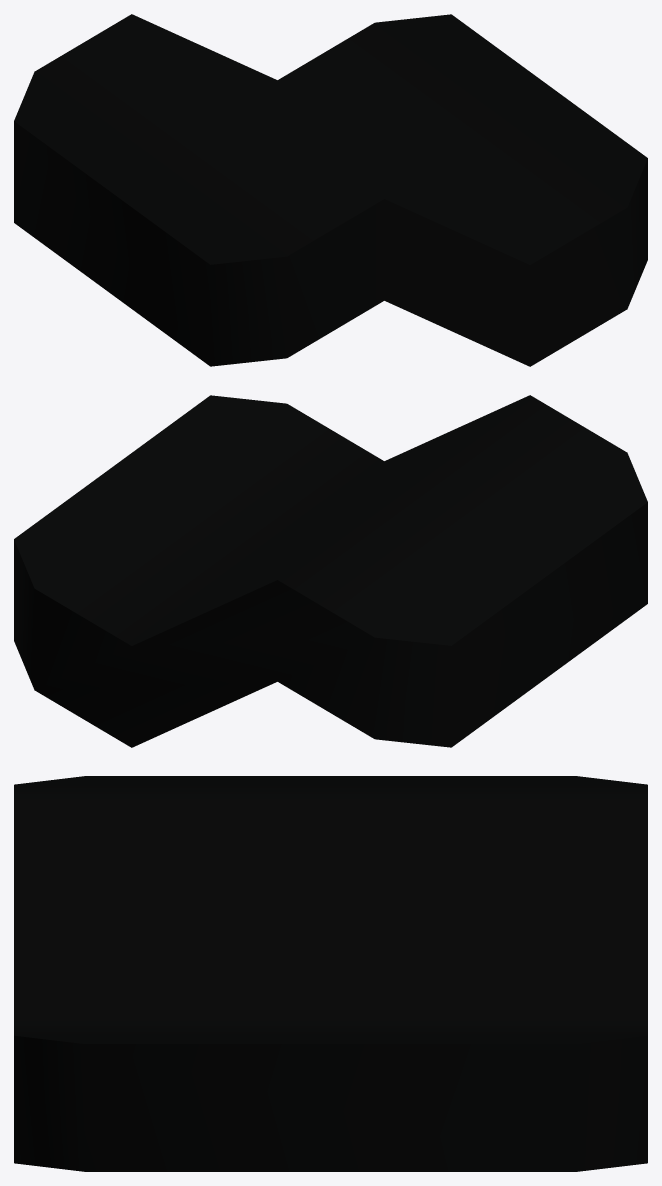
The model's file is debris-plate-small-b.glb.
3 renders of one model, top to bottom at view 1: azimuth 30°, elevation 25°; view 2: azimuth 150°, elevation 25°; view 3: azimuth 270°, elevation 25°, orthographic. The views are drawn at different scales.
Visible parts, largest first — view 1: debris-plate-small-b; view 2: debris-plate-small-b; view 3: debris-plate-small-b.
Boxes of the visible parts, x1,y1,x2,y2 form: debris-plate-small-b: (14,14,647,366); debris-plate-small-b: (14,395,647,747); debris-plate-small-b: (14,776,647,1171).
Size of the model in its own units: 0.45 by 0.2 by 0.45.
Materials: 1 (1 with a texture image).
